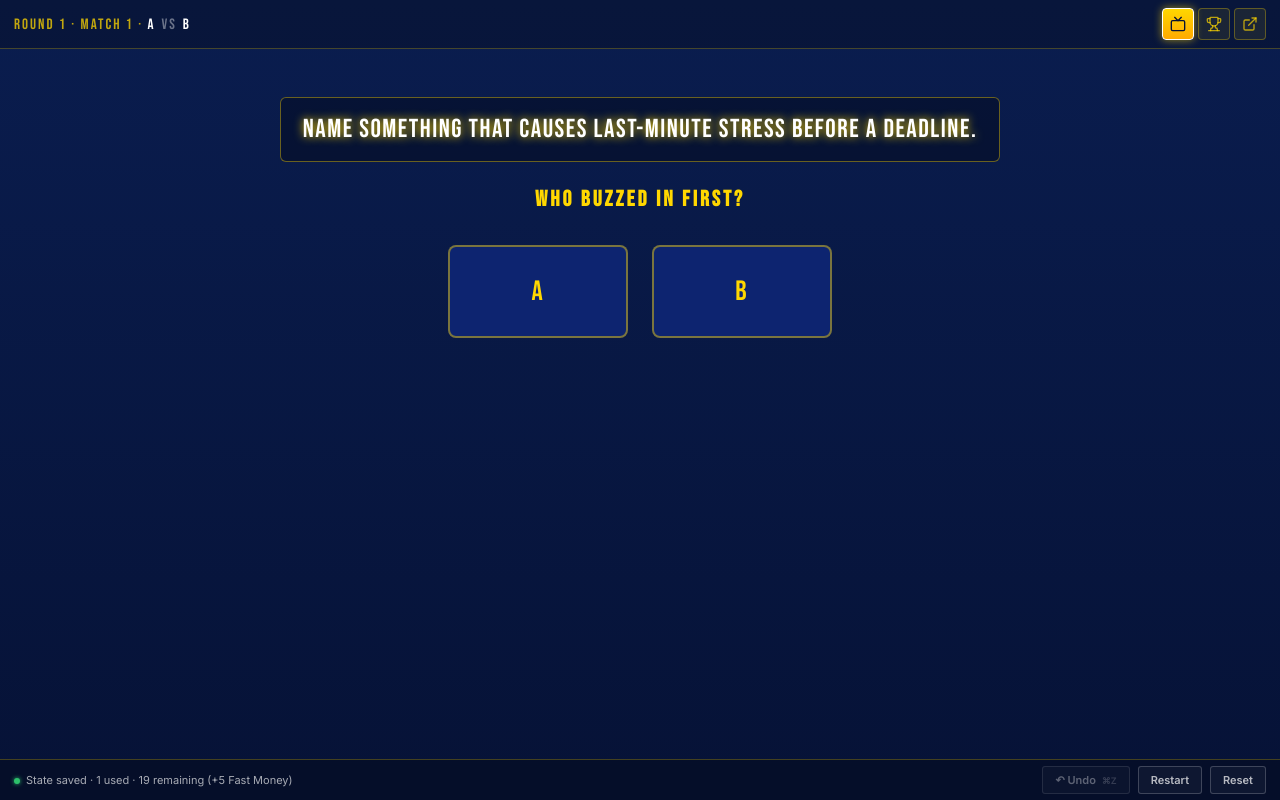
Test: AdminView: Reset and Restart footer buttons › Confirming Reset clears teams and returns to setup
Click the button "Reset". click: (1238, 780)
box: [1210,766,1266,794]
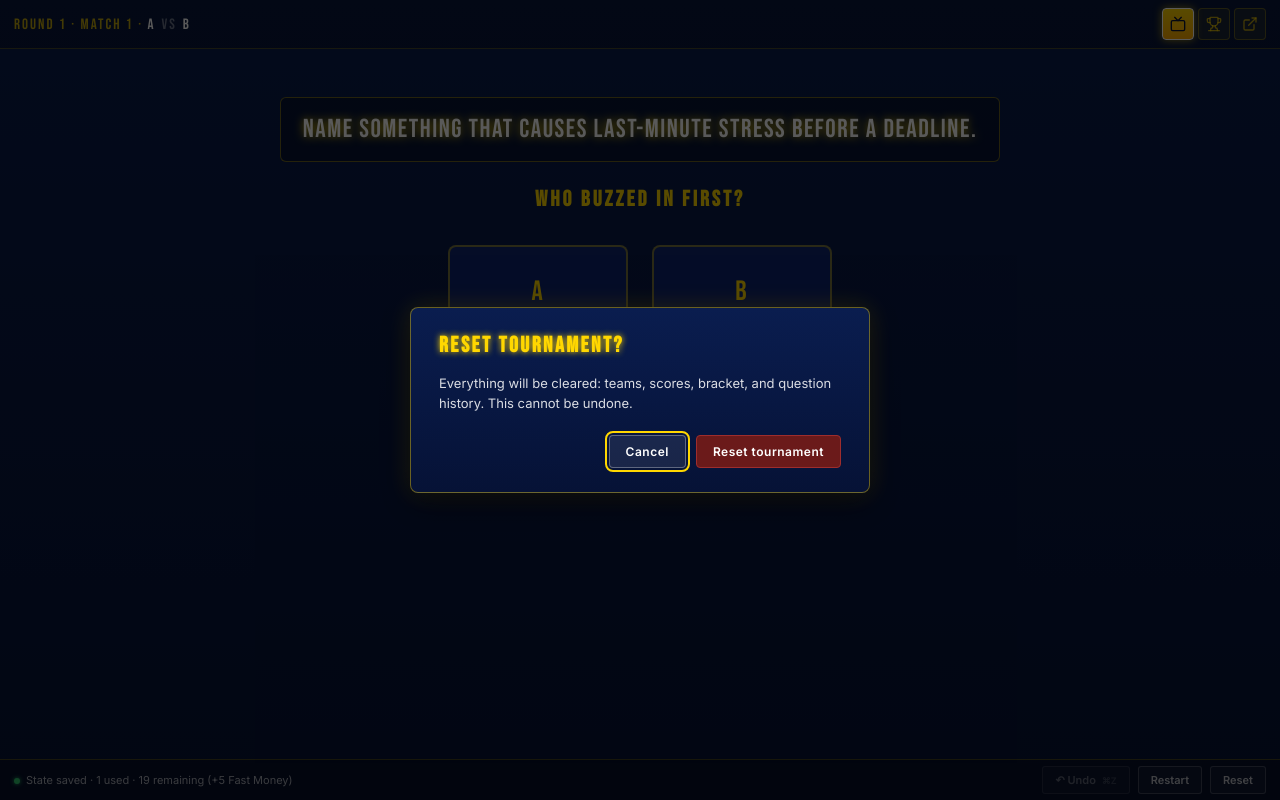
Click the button "Reset tournament". click: (768, 452)
box: [696,435,841,468]
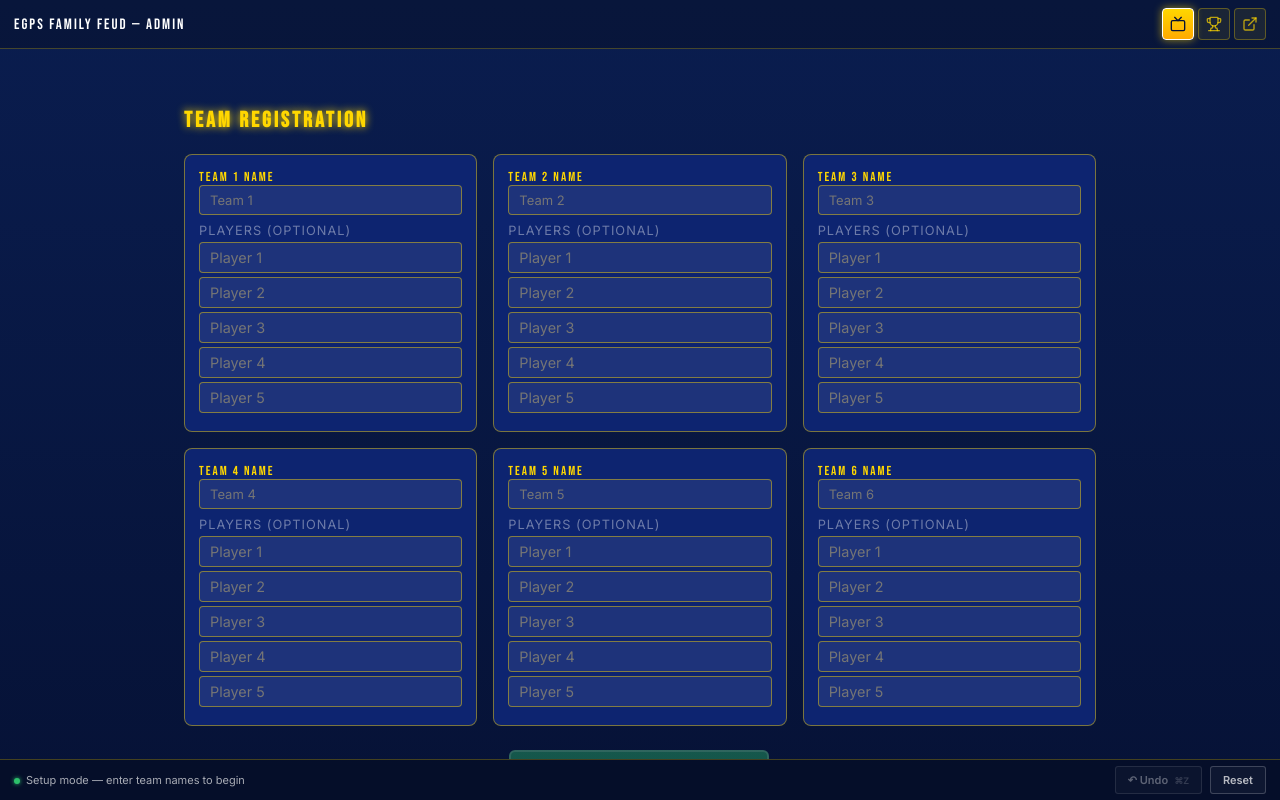
Expected: the text "Setup mode — enter team names to begin" is shown, [14,773,245,787]
Expected: the button "Restart" is gone
